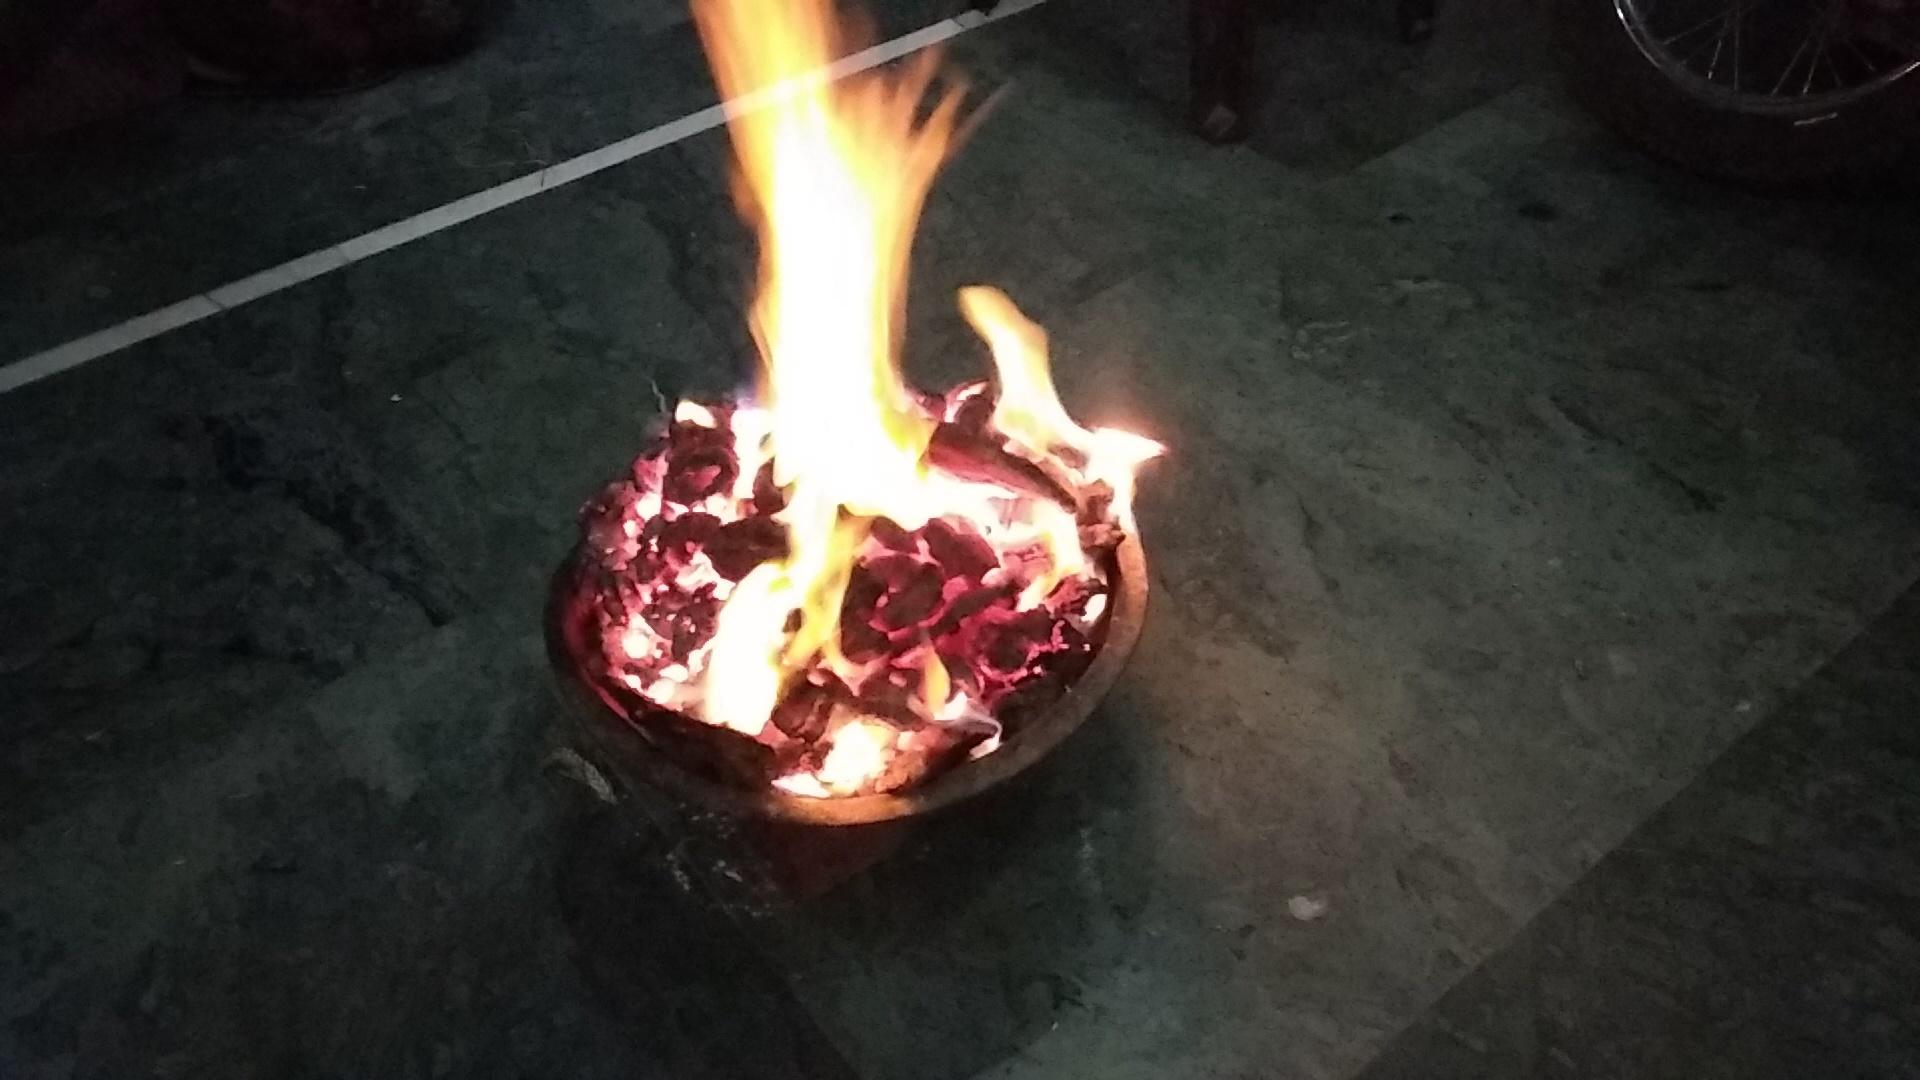fire: (568, 0, 1170, 847)
